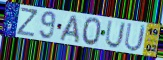9: (39, 10, 57, 41)
A: (58, 14, 81, 45)
O: (81, 17, 103, 47)
U: (123, 22, 147, 53), (104, 20, 127, 50)
Z: (16, 7, 38, 39)
